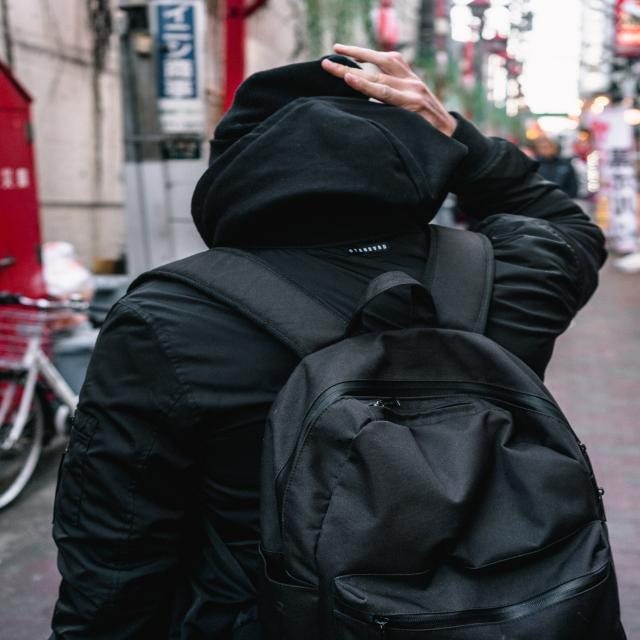backpack: (107, 227, 622, 640)
